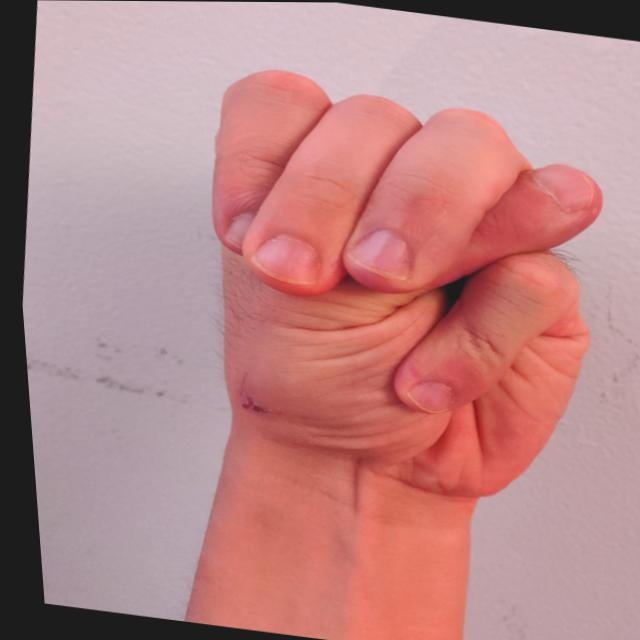M: (146, 47, 639, 518)
